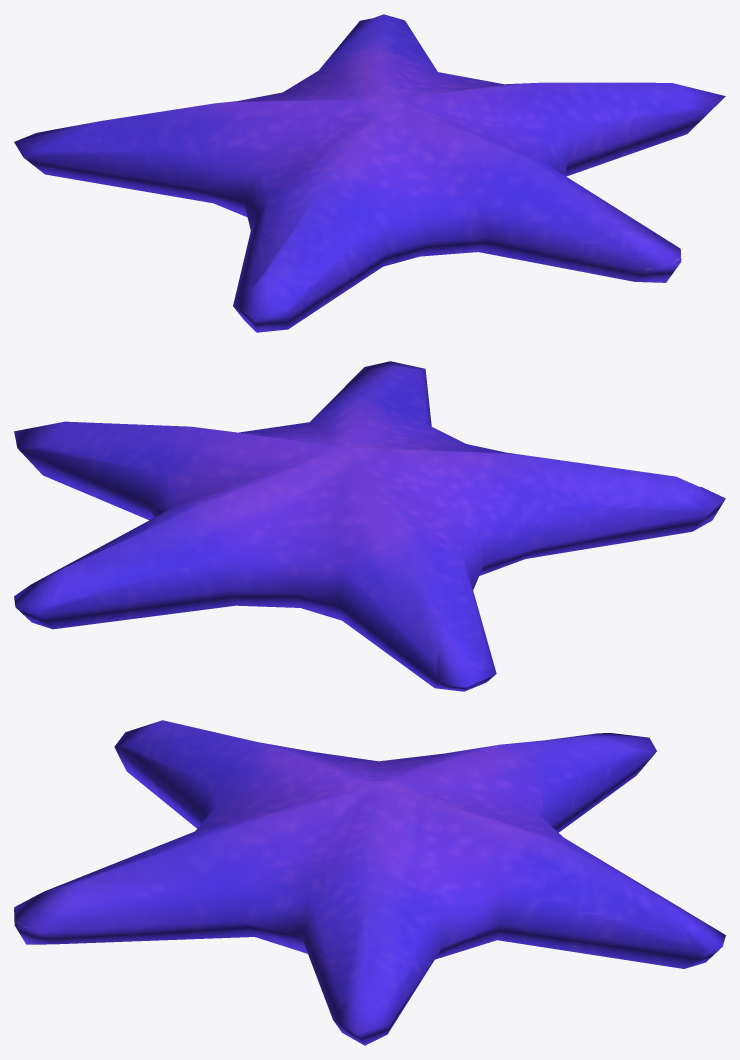
Rendered from M_StarfishPurple.obj.
3 views of the same model, one above another, from view 1: azimuth 30°, elevation 25°; view 2: azimuth 150°, elevation 25°; view 3: azimuth 270°, elevation 25° (orthographic). The views are drawn at different scales.
Visible parts, largest first — view 1: pCylinder70; view 2: pCylinder70; view 3: pCylinder70.
Boxes of the visible parts, x1,y1,x2,y2 form: pCylinder70: [14, 14, 725, 332]; pCylinder70: [14, 361, 725, 691]; pCylinder70: [14, 720, 725, 1045].
Bounding box in the file's own units: 2.26 × 0.3421 × 2.22.
